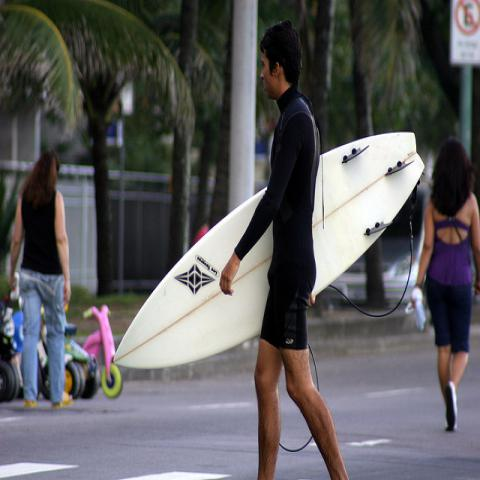car: (315, 252, 420, 308)
